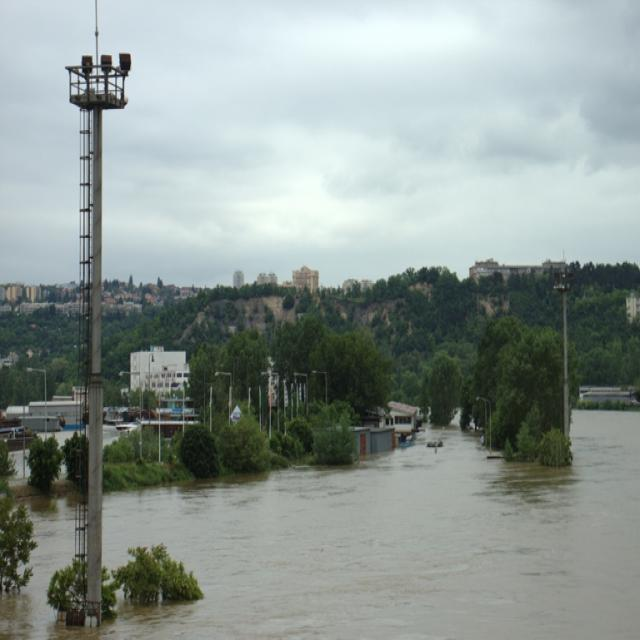flood: (0, 412, 640, 640)
house: (128, 344, 191, 401), (470, 258, 566, 280), (27, 399, 82, 428), (577, 386, 640, 410), (388, 402, 417, 434), (292, 264, 321, 292), (348, 425, 372, 456), (372, 424, 396, 452), (624, 290, 640, 324)
